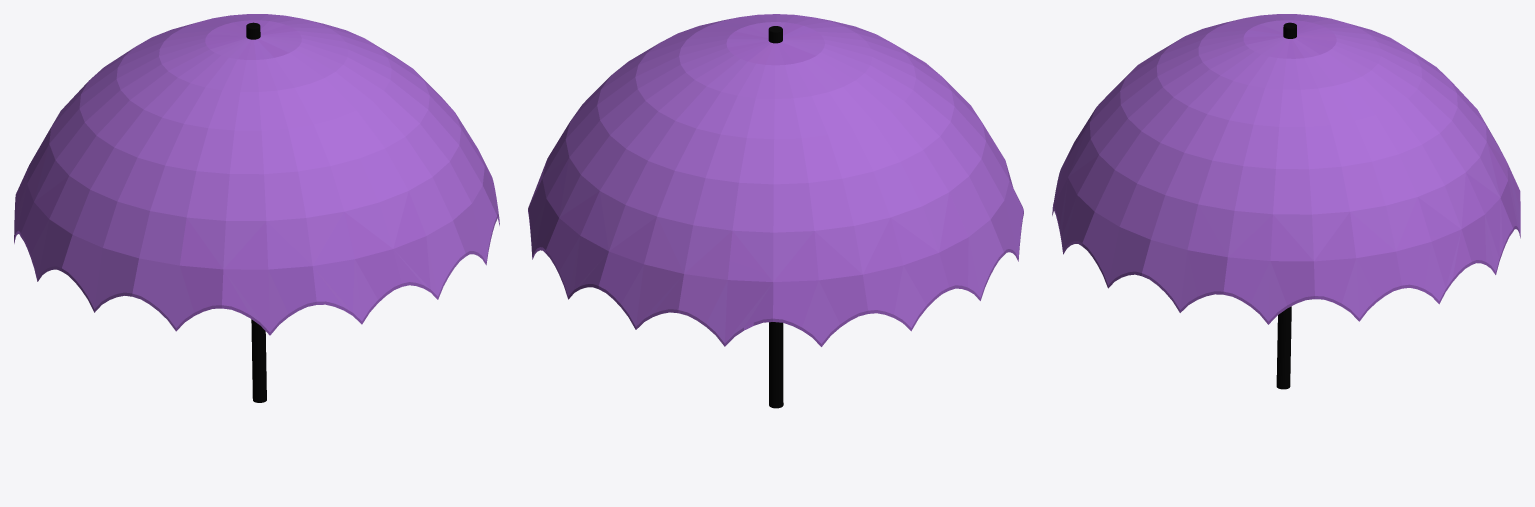
The model's file is colourful_umbrella.glb.
3 views of the same model, side by side, from view 1: azimuth 30°, elevation 25°; view 2: azimuth 150°, elevation 25°; view 3: azimuth 270°, elevation 25° (orthographic). The views are drawn at different scales.
Visible parts, largest first — view 1: node_id18, node_id58, node_id83, node_id38, node_id53, node_id73, node_id63, node_id48, node_id78, node_id13, node_id88, node_id28 (+1 smaller); view 2: node_id28, node_id78, node_id68, node_id63, node_id8, node_id53, node_id43, node_id83, node_id33, node_id18, node_id23, node_id88 (+2 smaller); view 3: node_id23, node_id13, node_id33, node_id48, node_id43, node_id73, node_id8, node_id38, node_id68, node_id58, node_id88, node_id28 (+1 smaller).
Boxes of the visible parts, left/top/right/bottom form: node_id18: left=176, top=39, right=269, bottom=335; node_id58: left=254, top=39, right=361, bottom=335; node_id83: left=94, top=39, right=250, bottom=330; node_id38: left=257, top=38, right=437, bottom=324; node_id53: left=37, top=38, right=248, bottom=312; node_id73: left=259, top=37, right=486, bottom=299; node_id63: left=14, top=37, right=246, bottom=281; node_id48: left=260, top=36, right=499, bottom=264; node_id78: left=14, top=34, right=246, bottom=240; node_id13: left=260, top=31, right=498, bottom=212; node_id88: left=246, top=22, right=266, bottom=402; node_id28: left=90, top=27, right=246, bottom=79; node_id28: left=725, top=43, right=821, bottom=346; node_id78: left=777, top=43, right=911, bottom=346; node_id68: left=636, top=43, right=773, bottom=346; node_id63: left=780, top=42, right=980, bottom=330; node_id8: left=568, top=42, right=771, bottom=329; node_id53: left=782, top=41, right=1018, bottom=300; node_id43: left=532, top=41, right=769, bottom=298; node_id83: left=783, top=39, right=1023, bottom=258; node_id33: left=528, top=39, right=768, bottom=256; node_id18: left=783, top=31, right=1013, bottom=187; node_id23: left=571, top=31, right=768, bottom=119; node_id88: left=768, top=26, right=783, bottom=408; node_id23: left=1268, top=39, right=1359, bottom=324; node_id13: left=1180, top=38, right=1289, bottom=324; node_id33: left=1292, top=38, right=1439, bottom=321; node_id48: left=1108, top=38, right=1286, bottom=312; node_id43: left=1295, top=37, right=1495, bottom=303; node_id73: left=1063, top=37, right=1284, bottom=287; node_id8: left=1296, top=36, right=1520, bottom=274; node_id38: left=1052, top=36, right=1283, bottom=254; node_id68: left=1297, top=34, right=1520, bottom=234; node_id58: left=1054, top=30, right=1283, bottom=200; node_id88: left=1276, top=22, right=1296, bottom=389; node_id28: left=1297, top=27, right=1448, bottom=78.
Size of the model in its own units: 0.4475 by 0.4756 by 0.4474.
18 materials, 18 textured.
